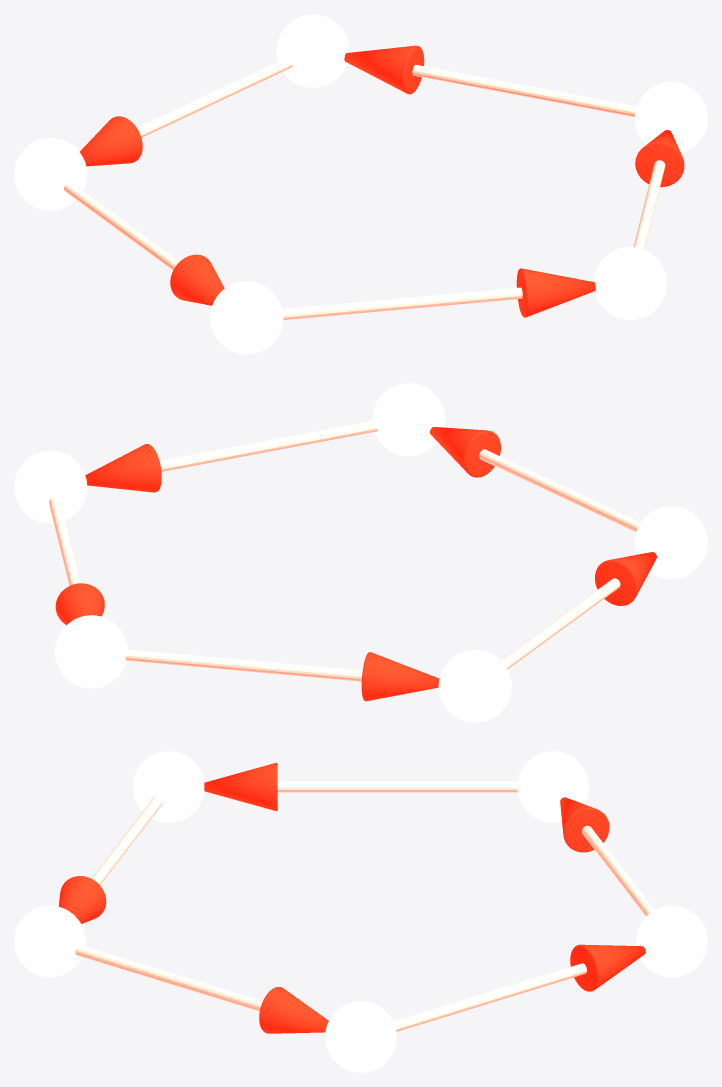
The picture shows the model from 3 angles, top to bottom: view 1: azimuth 30°, elevation 25°; view 2: azimuth 150°, elevation 25°; view 3: azimuth 270°, elevation 25°; orthographic projection. The views are drawn at different scales.
Parts seen in each view (by area): view 1: Sphere.0003, Sphere.0004, Sphere.0001, Sphere.0002, Sphere.0000, Gamma.0003, Gamma.0000, Alpha.0000, Alpha.0003, Alpha.0001, Alpha.0002, Gamma.0001 (+3 smaller); view 2: Sphere.0002, Sphere.0001, Sphere.0004, Sphere.0003, Sphere.0000, Gamma.0001, Gamma.0004, Alpha.0004, Alpha.0001, Alpha.0003, Gamma.0003, Alpha.0002 (+3 smaller); view 3: Sphere.0000, Sphere.0001, Sphere.0004, Sphere.0003, Sphere.0002, Gamma.0002, Gamma.0000, Alpha.0004, Gamma.0004, Alpha.0000, Alpha.0002, Alpha.0001 (+3 smaller).
Boxes of the visible parts, x1=… form: Sphere.0003: x1=210, y1=281, x2=283, y2=354; Sphere.0004: x1=593, y1=246, x2=666, y2=319; Sphere.0001: x1=276, y1=14, x2=349, y2=87; Sphere.0002: x1=14, y1=137, x2=87, y2=210; Sphere.0000: x1=634, y1=82, x2=707, y2=153; Gamma.0003: x1=282, y1=287, x2=522, y2=319; Gamma.0000: x1=412, y1=64, x2=636, y2=117; Alpha.0000: x1=344, y1=45, x2=424, y2=94; Alpha.0003: x1=516, y1=268, x2=595, y2=317; Alpha.0001: x1=80, y1=116, x2=142, y2=166; Alpha.0002: x1=170, y1=254, x2=224, y2=305; Gamma.0001: x1=137, y1=57, x2=292, y2=137; Sphere.0002: x1=438, y1=649, x2=511, y2=722; Sphere.0001: x1=55, y1=615, x2=127, y2=688; Sphere.0004: x1=372, y1=383, x2=445, y2=456; Sphere.0003: x1=634, y1=506, x2=707, y2=579; Sphere.0000: x1=14, y1=450, x2=87, y2=523; Gamma.0001: x1=125, y1=649, x2=362, y2=681; Gamma.0004: x1=159, y1=420, x2=378, y2=471; Alpha.0004: x1=85, y1=444, x2=161, y2=492; Alpha.0001: x1=361, y1=652, x2=439, y2=701; Alpha.0003: x1=430, y1=427, x2=500, y2=477; Gamma.0003: x1=479, y1=449, x2=640, y2=532; Alpha.0002: x1=595, y1=552, x2=656, y2=605; Sphere.0000: x1=325, y1=1001, x2=396, y2=1072; Sphere.0001: x1=636, y1=905, x2=707, y2=977; Sphere.0004: x1=14, y1=905, x2=85, y2=977; Sphere.0003: x1=132, y1=751, x2=204, y2=822; Sphere.0002: x1=517, y1=751, x2=589, y2=822; Gamma.0002: x1=277, y1=781, x2=517, y2=792; Gamma.0000: x1=393, y1=963, x2=586, y2=1031; Alpha.0004: x1=259, y1=987, x2=328, y2=1033; Gamma.0004: x1=75, y1=945, x2=262, y2=1011; Alpha.0000: x1=570, y1=944, x2=645, y2=991; Alpha.0002: x1=204, y1=763, x2=277, y2=810; Alpha.0001: x1=560, y1=797, x2=609, y2=852.
Size of the model in its own units: 1.2 by 0.1296 by 1.25.
